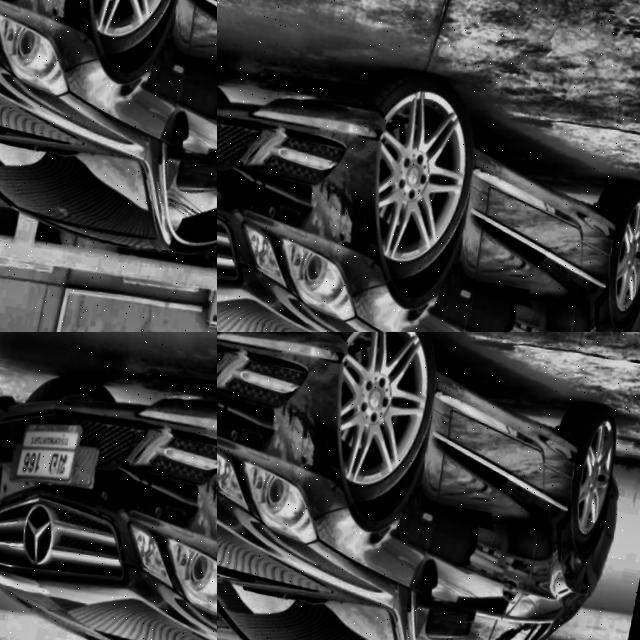license-plate: (316, 0, 472, 50)
